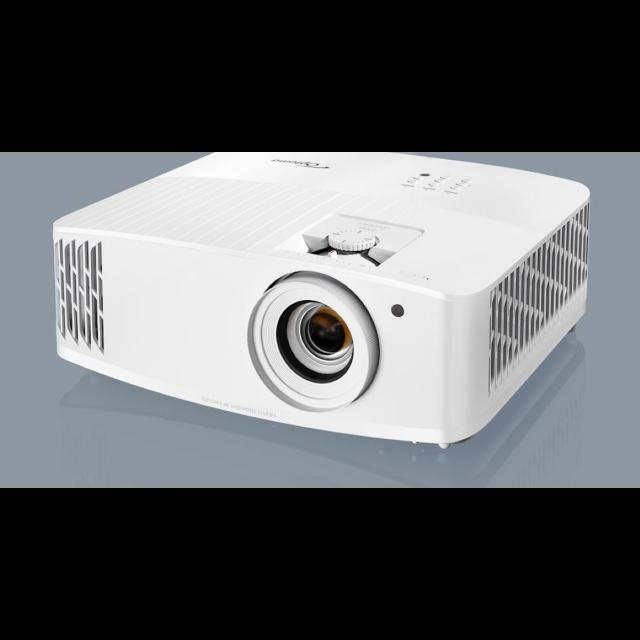Projector: (43, 153, 602, 470)
